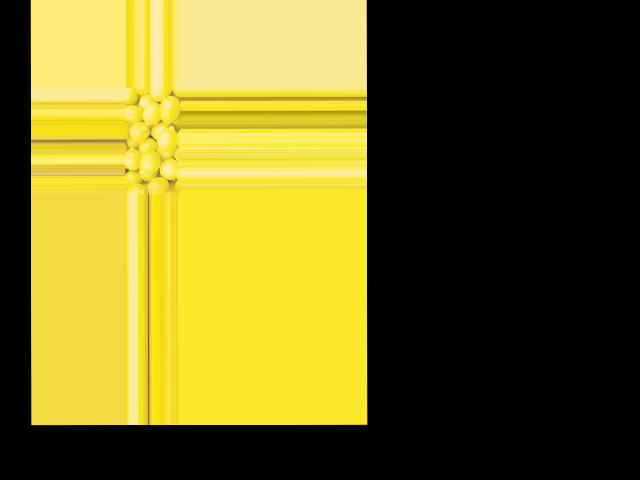lemon: (128, 123, 152, 141)
